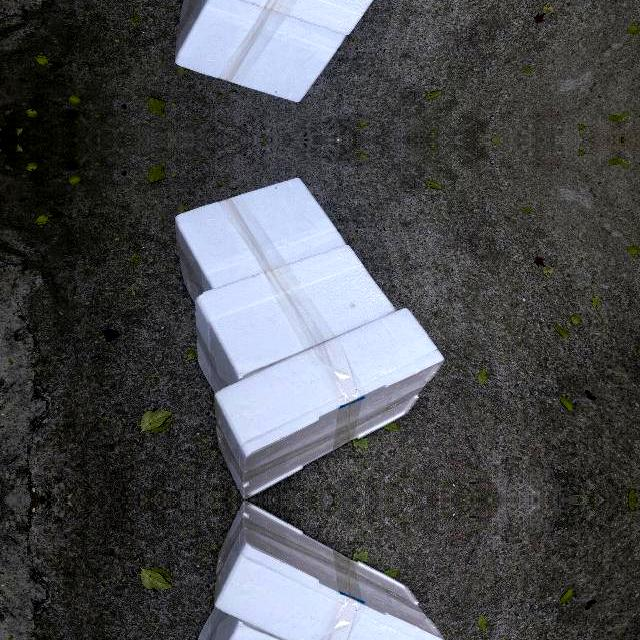Styrofoam: (214, 307, 444, 499), (215, 308, 444, 498), (214, 501, 444, 640), (215, 502, 444, 640), (194, 242, 392, 390), (195, 245, 395, 391), (174, 176, 346, 304), (175, 177, 345, 300), (174, 0, 346, 104), (175, 0, 345, 103), (194, 0, 392, 37), (194, 610, 392, 640)
